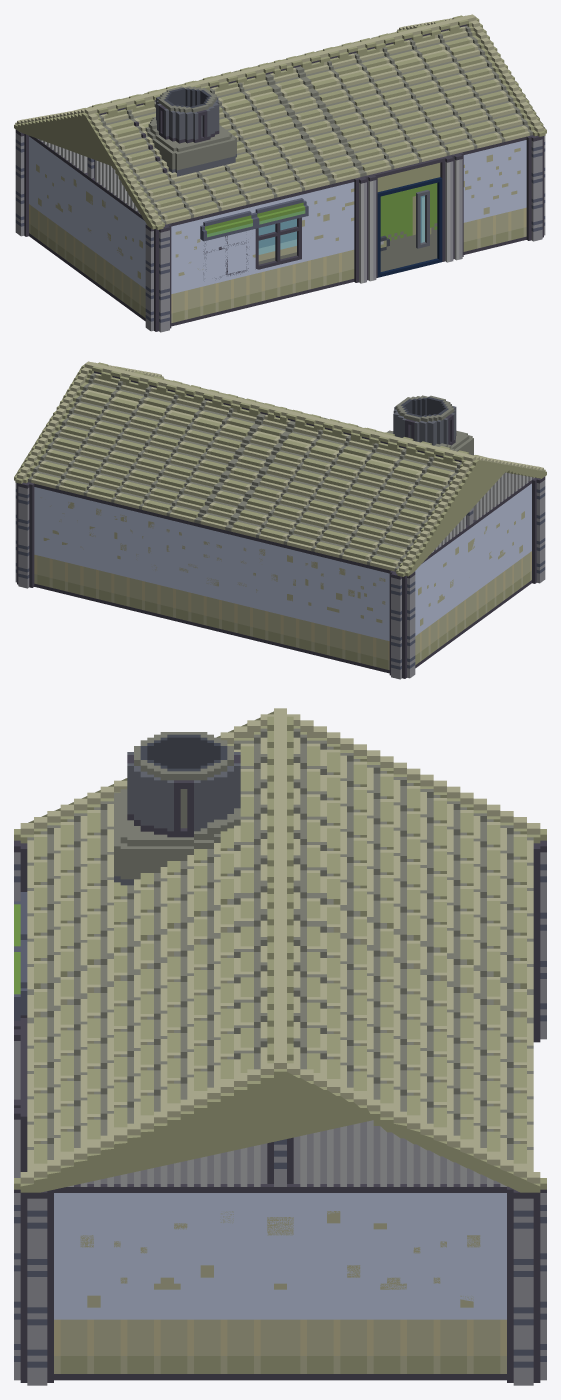
Rendered from ProfHouse.fbx.
3 views of the same model, one above another, from view 1: azimuth 30°, elevation 25°; view 2: azimuth 150°, elevation 25°; view 3: azimuth 270°, elevation 25° (orthographic). The views are drawn at different scales.
Parts seen in each view (by area): view 1: ProfessorsHouse; view 2: ProfessorsHouse; view 3: ProfessorsHouse.
Boxes of the visible parts, box(x1,y1,x2,y2) form: ProfessorsHouse: box(14, 14, 546, 332); ProfessorsHouse: box(14, 361, 546, 679); ProfessorsHouse: box(14, 708, 546, 1385).
Size of the model in its own units: 800 by 356 by 500.
